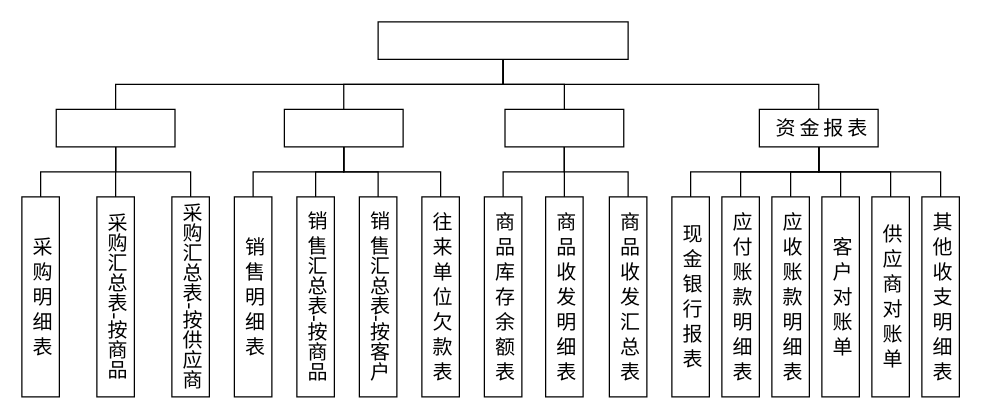
Some shapes in this 981 by 419 pixel diagram are drawn without their labels. The box of each missing label's shape, as (x1, y1, x2, y2) in pixels:
库存报表: (504, 108, 624, 147)
统计分析: (377, 21, 628, 59)
采购报表: (55, 108, 175, 147)
销售报表: (283, 108, 403, 147)
